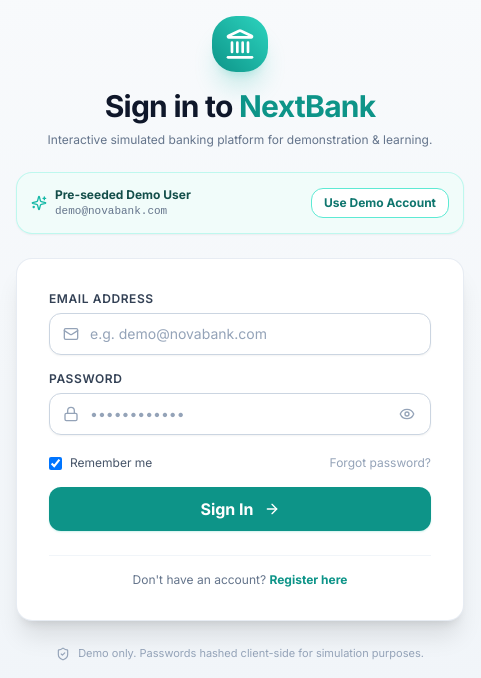
Scenario: NextBank UI Component Suite › LoginPage Component › renders login form with demo account shortcut button
expect the heading "Sign in to NextBank" is shown: met, box x1=105 y1=88 x2=375 y2=124
# Click "Use Demo Account" and verify fields are populated
Click the button "Use Demo Account" at (380,203), box x1=311 y1=188 x2=449 y2=218
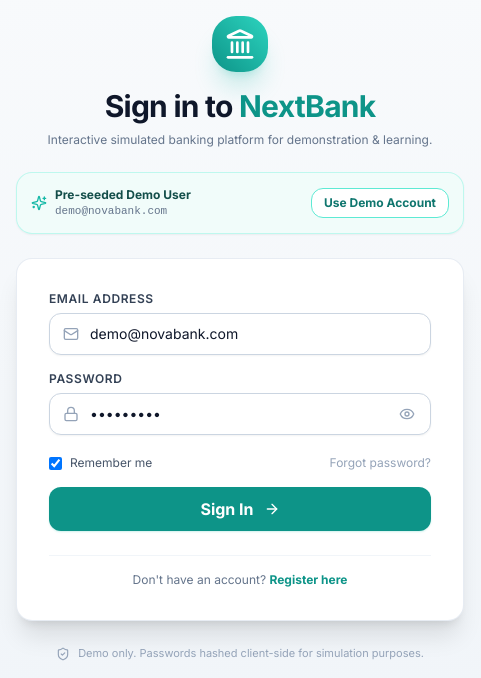
expect the field labelled "Email Address" holds "demo@novabank.com": met, box x1=49 y1=313 x2=431 y2=355
